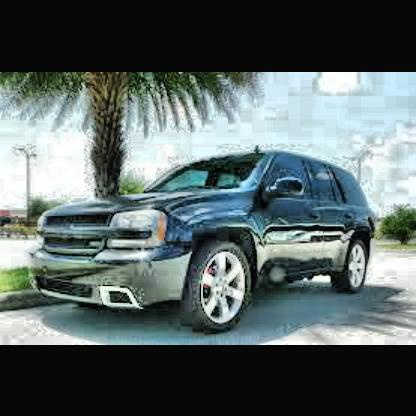Chevrolet TrailBlazer SS 2009: (26, 143, 378, 338)
